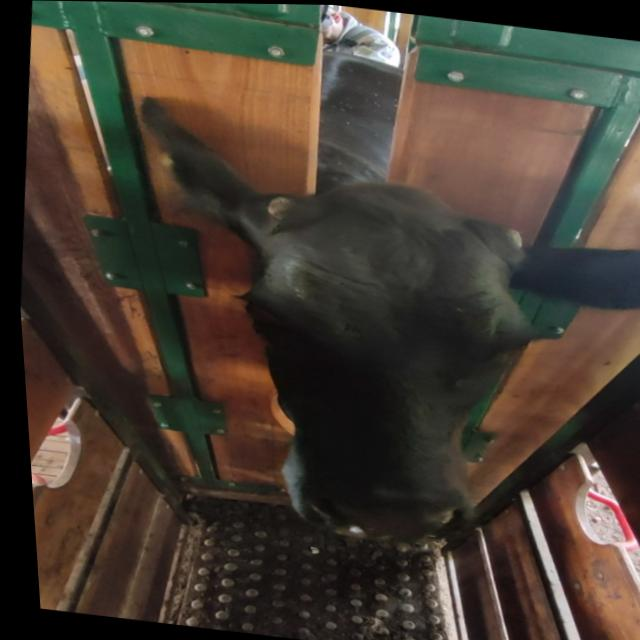cowFace: (202, 174, 565, 562)
